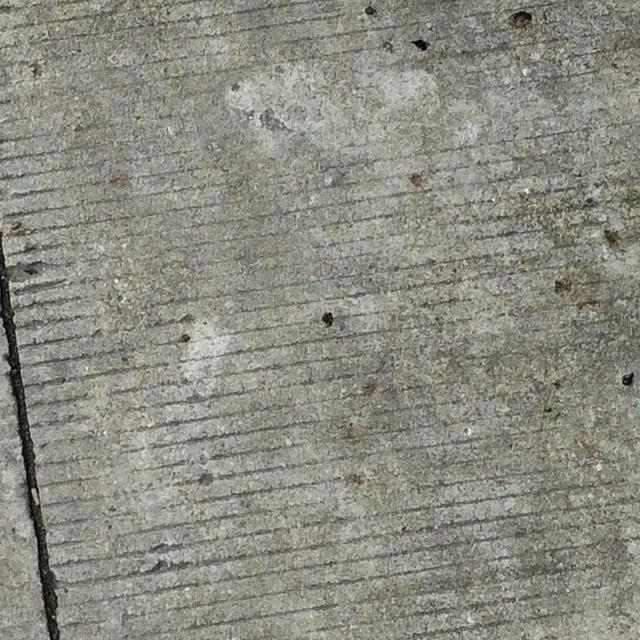LongitudinalCrack: (1, 235, 62, 640)
